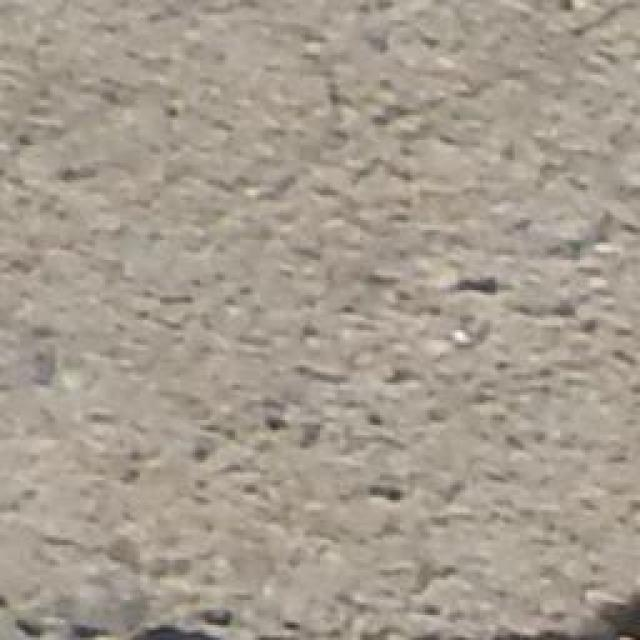concrete-crack: (0, 582, 640, 640)
